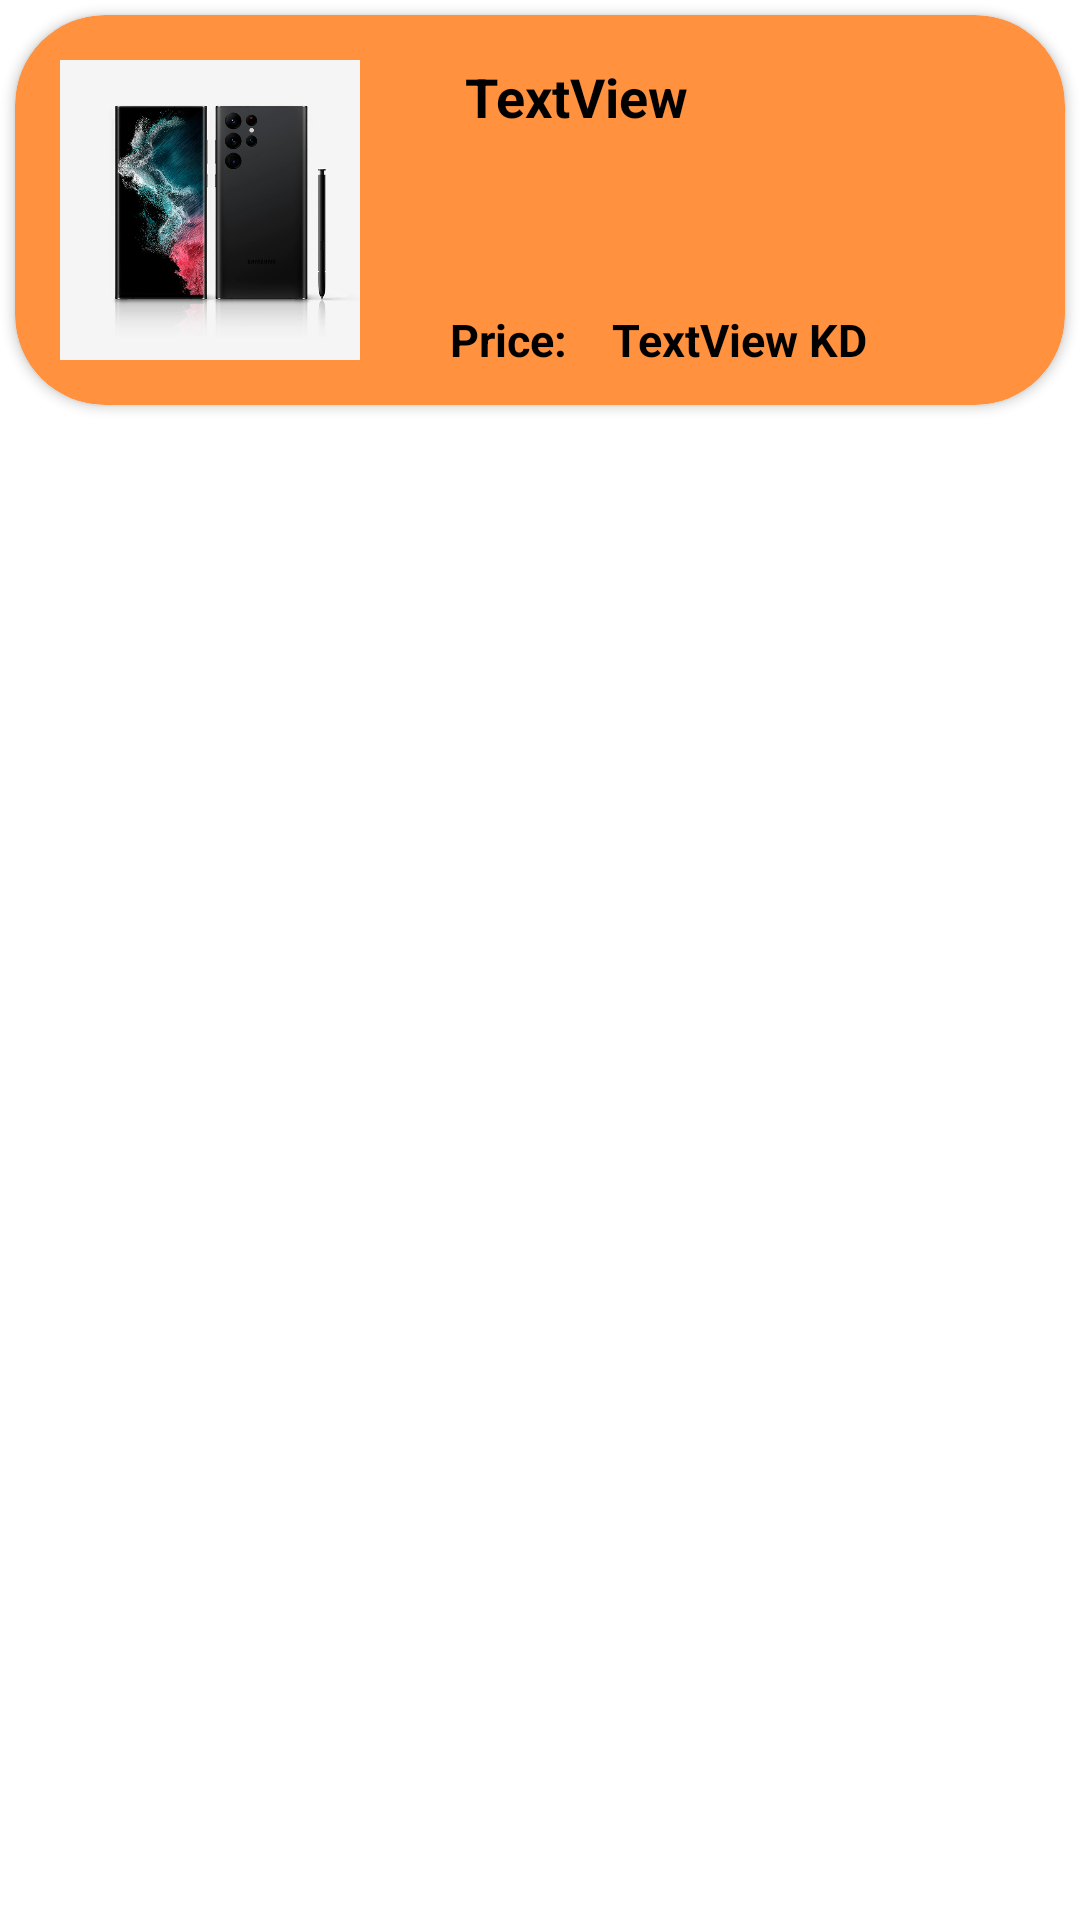

Icon bounding boxes for this 1080w x 1920h phone screenshot, format [left=x1, top=y1, right=x2, bottom=y2]:
ultra: [left=60, top=60, right=360, bottom=360]
